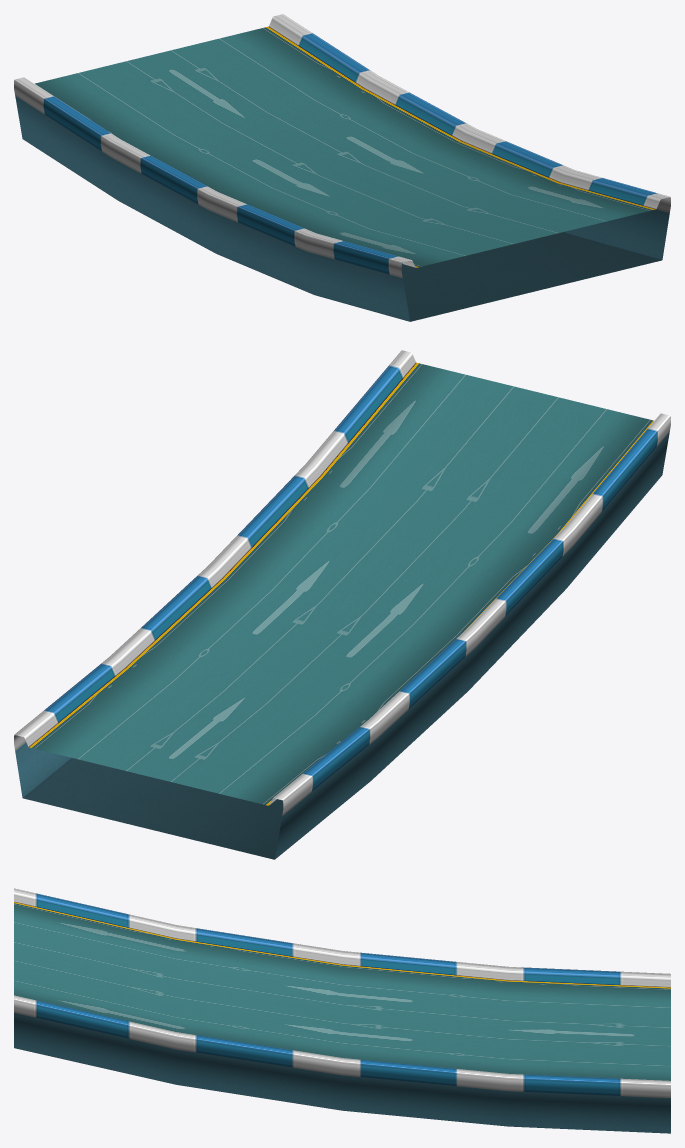
Rendered from lu_luup1.fbx.
3 views of the same model, one above another, from view 1: azimuth 30°, elevation 25°; view 2: azimuth 150°, elevation 25°; view 3: azimuth 270°, elevation 25° (orthographic). The views are drawn at different scales.
Parts seen in each view (by area): view 1: lu_luup1; view 2: lu_luup1; view 3: lu_luup1.
Part boxes in pixels (bbox=[...]): lu_luup1: bbox=[14, 14, 670, 321]; lu_luup1: bbox=[14, 350, 670, 859]; lu_luup1: bbox=[14, 888, 670, 1133].
Size of the model in its own units: 4893 by 2818 by 12200.
